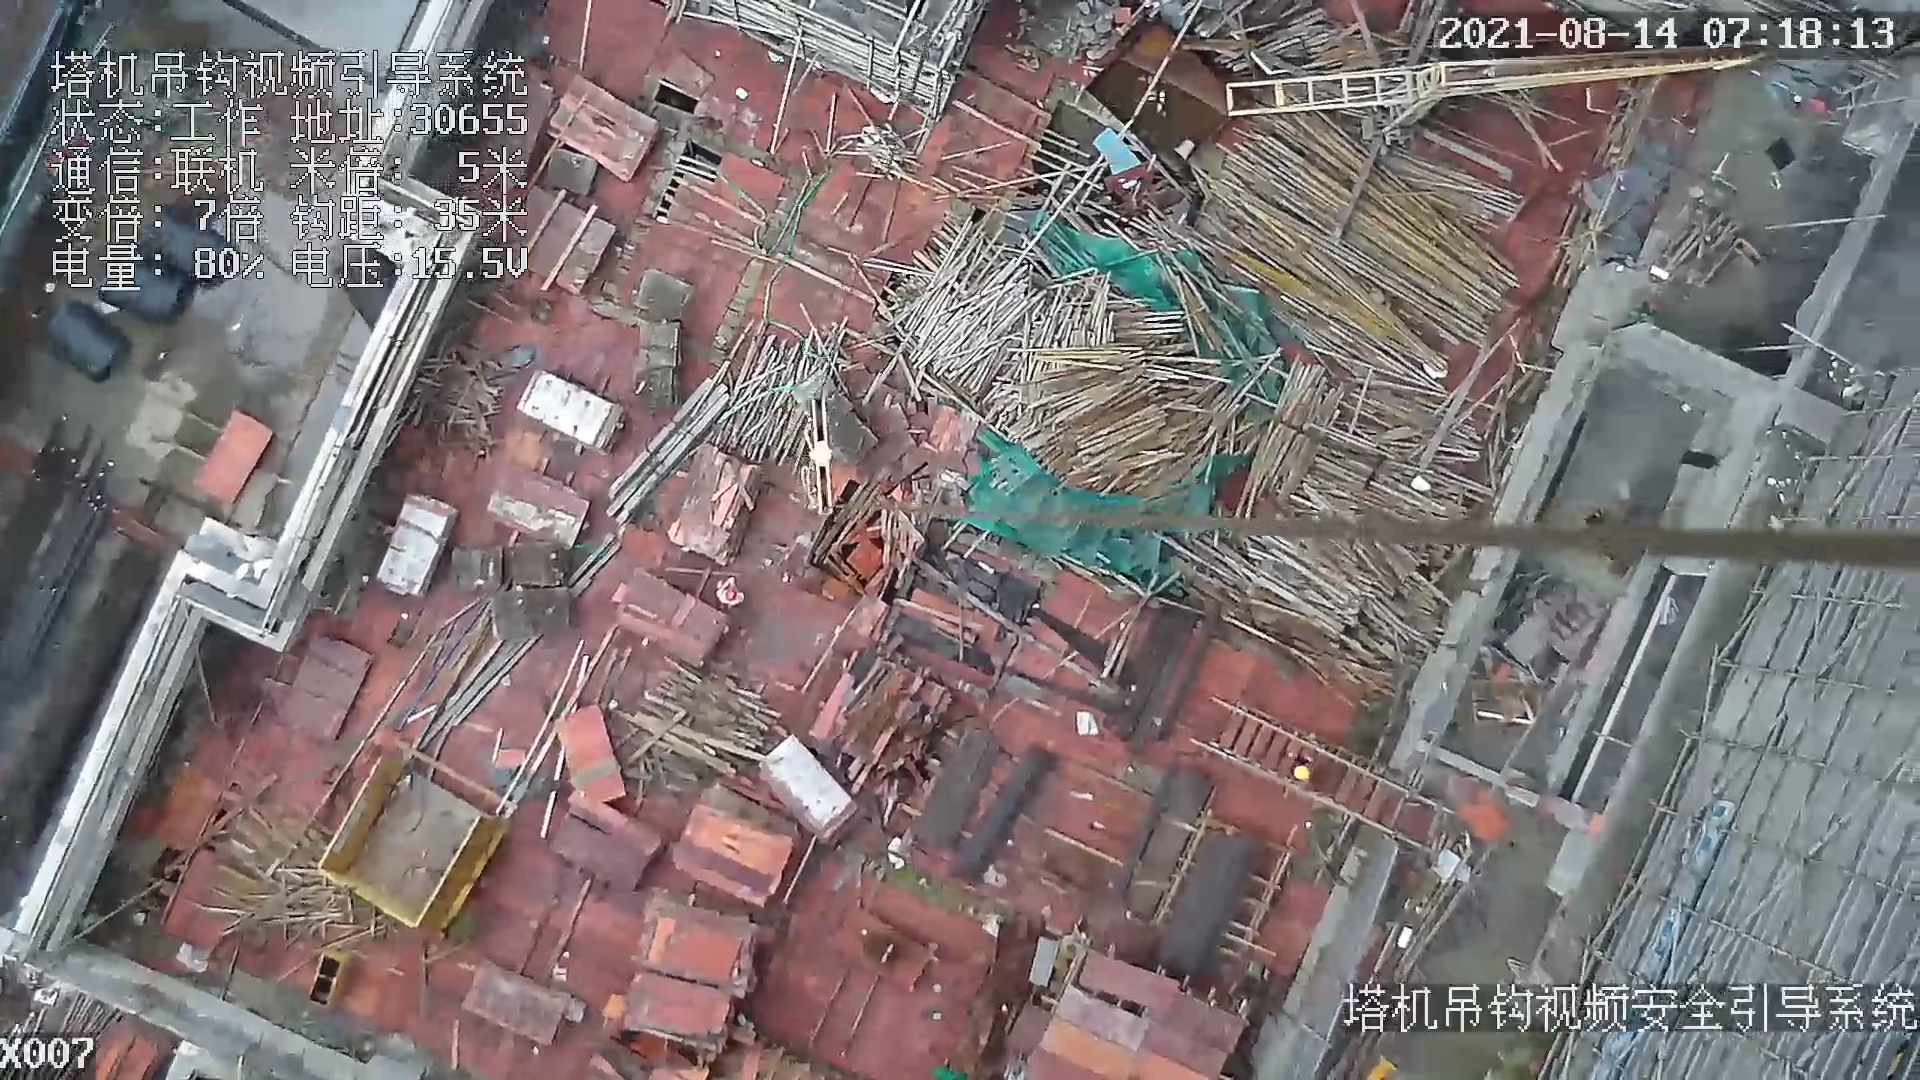helmet: (724, 588, 738, 600)
hook: (790, 391, 841, 519)
person: (718, 574, 745, 605)
